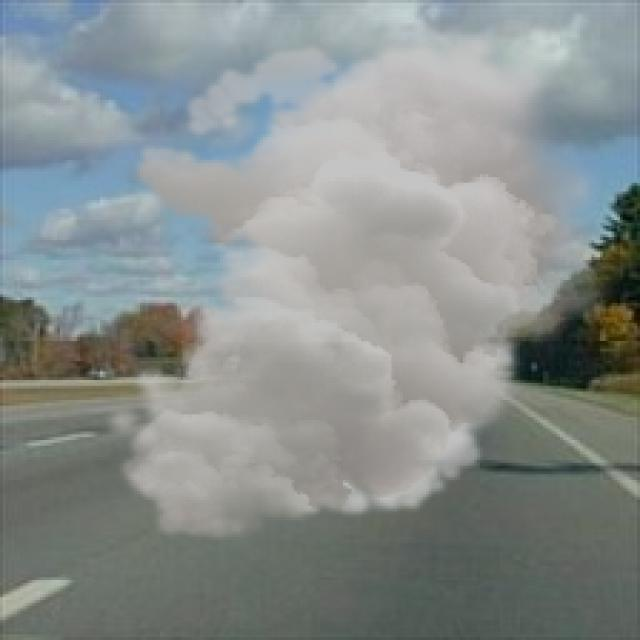smoke: (100, 28, 617, 543)
